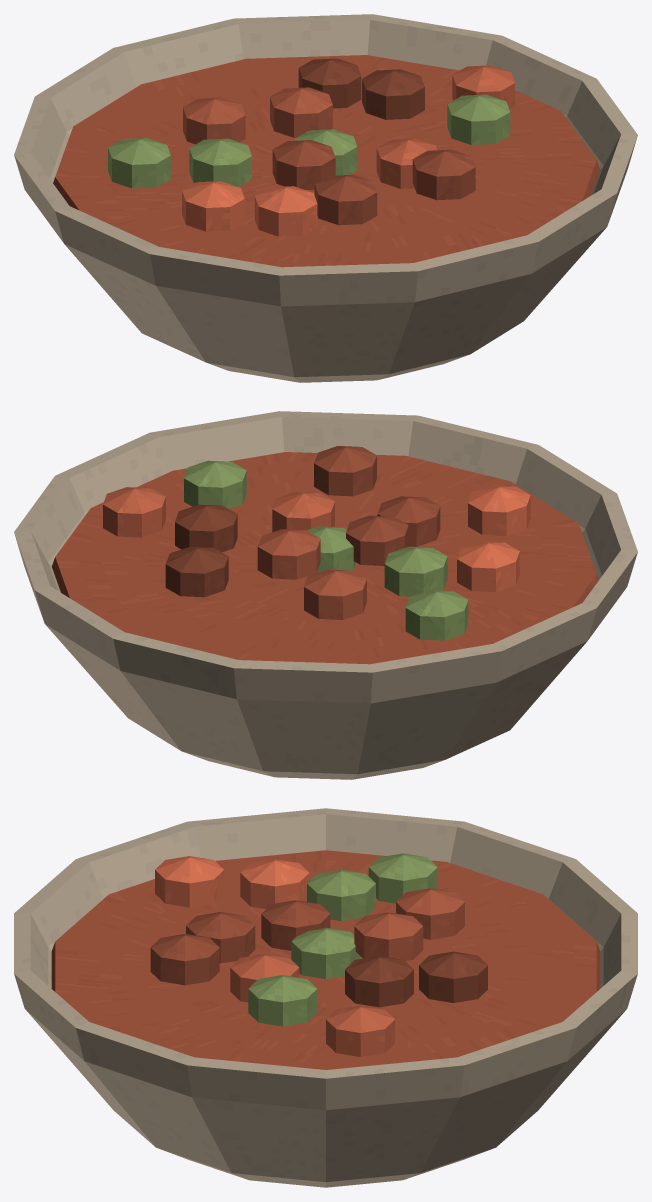
File: chili.glb
The picture shows the model from 3 angles, top to bottom: view 1: azimuth 30°, elevation 25°; view 2: azimuth 150°, elevation 25°; view 3: azimuth 270°, elevation 25°; orthographic projection. The views are drawn at different scales.
Visible parts, largest first — view 1: block_earthenware bowl, block_meal in bowl, block_pieces in cooked dish (×15); view 2: block_earthenware bowl, block_meal in bowl, block_pieces in cooked dish (×15); view 3: block_earthenware bowl, block_meal in bowl, block_pieces in cooked dish (×15).
Part boxes in pixels (x1=…): block_earthenware bowl: x1=14, y1=14, x2=637, y2=382; block_meal in bowl: x1=53, y1=55, x2=600, y2=267; block_pieces in cooked dish (×15): x1=108, y1=58, x2=514, y2=236; block_earthenware bowl: x1=14, y1=411, x2=637, y2=779; block_meal in bowl: x1=51, y1=452, x2=598, y2=664; block_pieces in cooked dish (×15): x1=103, y1=446, x2=530, y2=640; block_earthenware bowl: x1=14, y1=808, x2=637, y2=1187; block_meal in bowl: x1=51, y1=850, x2=600, y2=1069; block_pieces in cooked dish (×15): x1=150, y1=853, x2=487, y2=1056.
Size of the model in its own units: 0.1203 by 0.0419 by 0.1173.
Materials: 1 (1 with a texture image).
